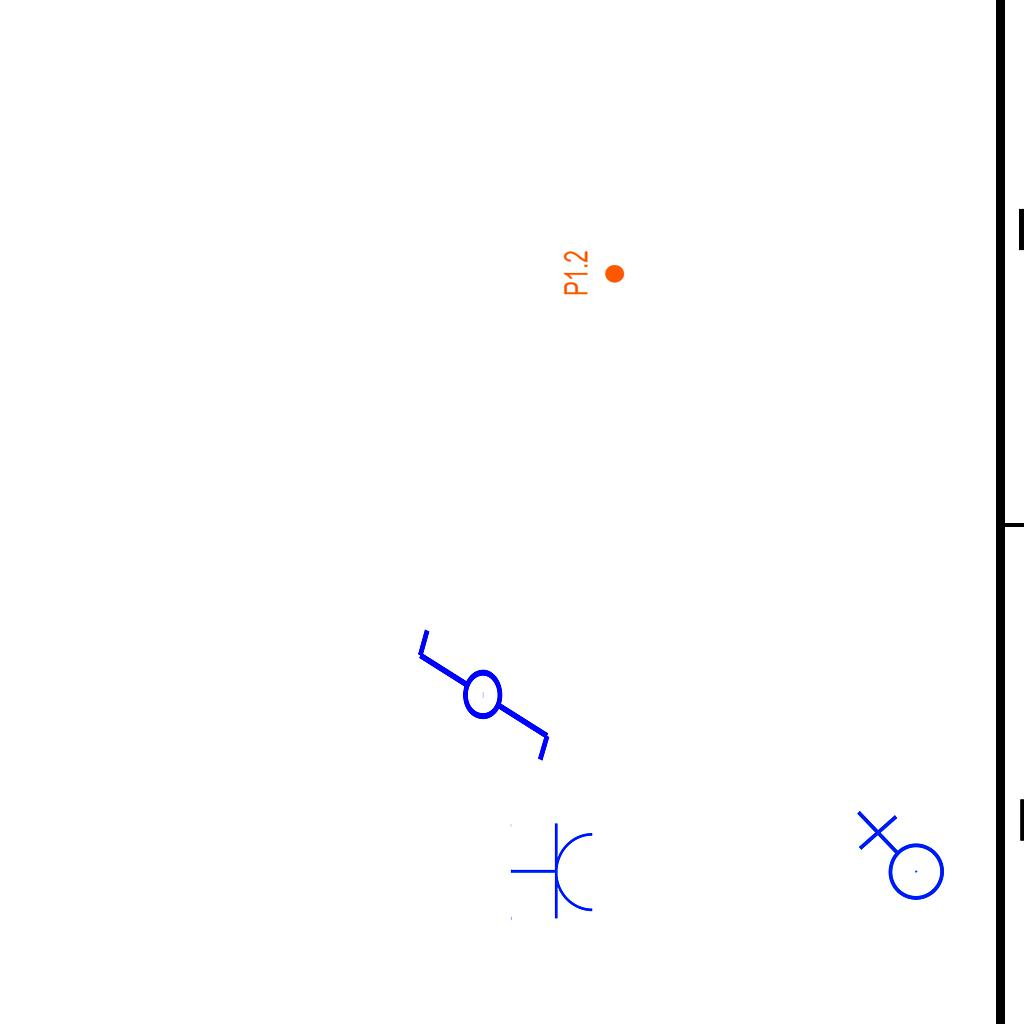Downlight_LED_Einbauleuchten_Flur: (562, 250, 626, 296)
Elektroanschluss_allgemein_230V_Geraeteanschlussdose_230V: (852, 810, 946, 909)
Schukosteckdose_einfach: (510, 822, 597, 922)
Wechselschalter: (413, 608, 557, 765)
